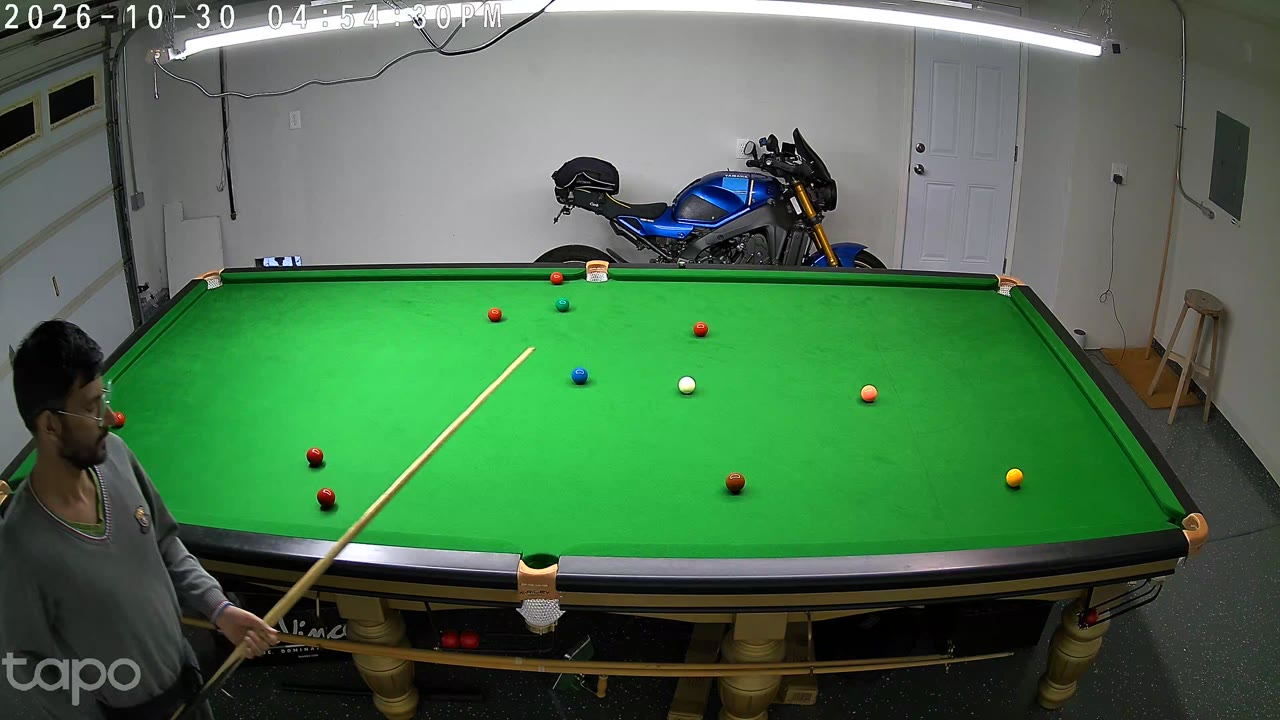blue: (572, 365, 588, 387)
brown: (726, 471, 744, 496)
green: (556, 296, 569, 314)
pink: (860, 384, 876, 404)
red: (317, 485, 336, 512), (307, 445, 324, 469), (694, 320, 708, 340), (488, 306, 501, 325), (112, 413, 127, 429), (551, 271, 562, 288)
white: (679, 375, 695, 396)
yellow: (1006, 467, 1023, 489)
